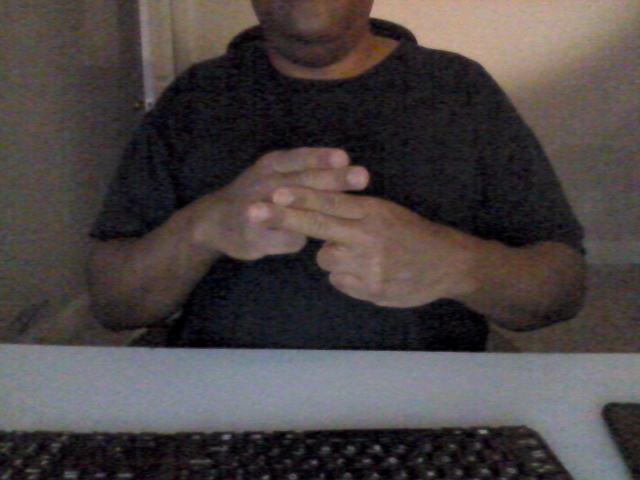name: (207, 141, 457, 311)
